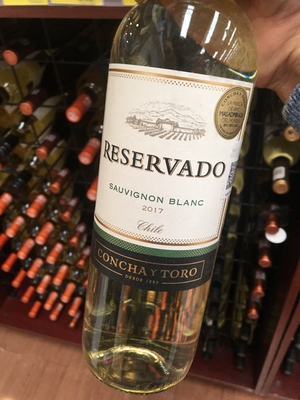reservado sauvignon blanc: (82, 13, 276, 400)
